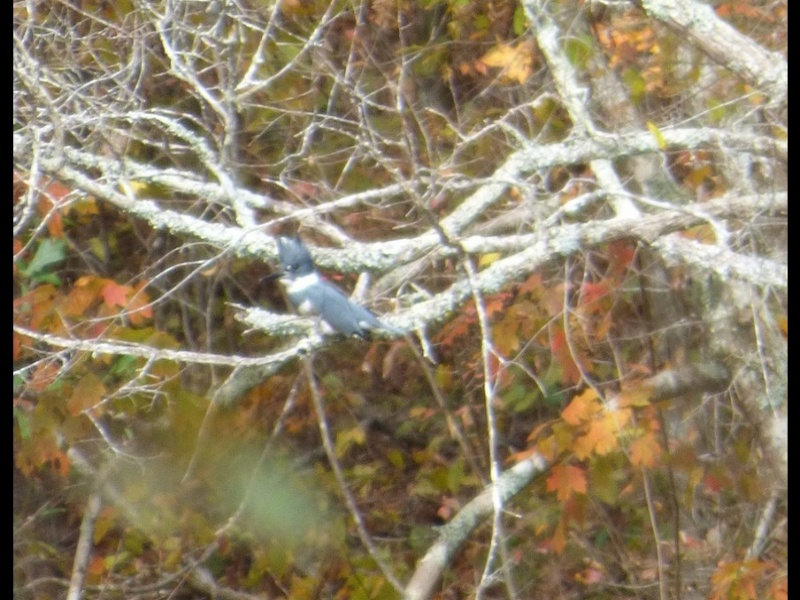kingfisher: (257, 236, 384, 342)
